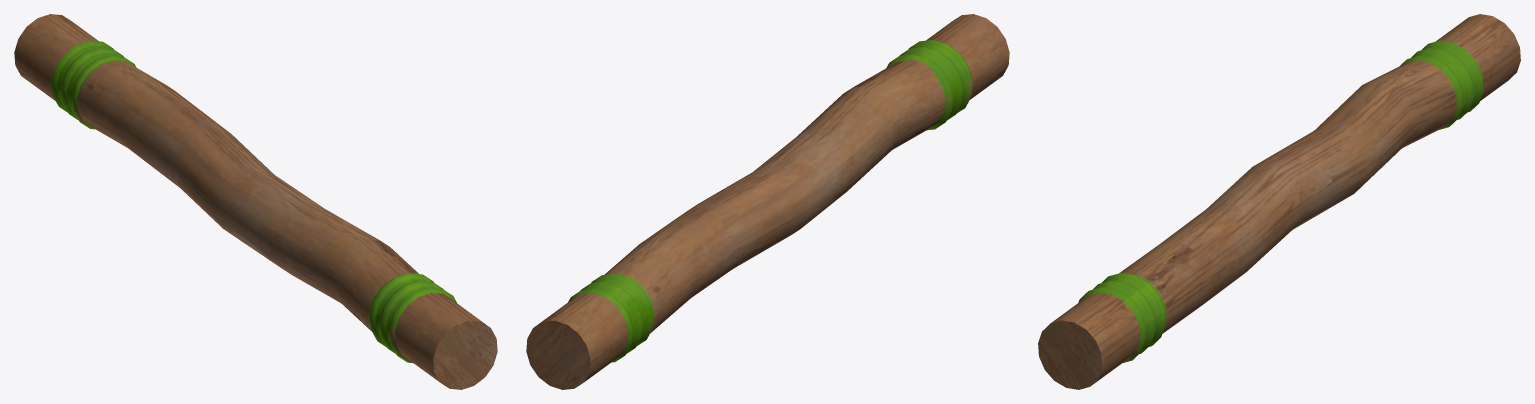
File: Raft1.gltf
The picture shows the model from 3 angles, left to right: view 1: azimuth 30°, elevation 25°; view 2: azimuth 150°, elevation 25°; view 3: azimuth 330°, elevation 25°; orthographic projection.
Visible parts, largest first — view 1: Mesh_0.002; view 2: Mesh_0.002; view 3: Mesh_0.002.
Part boxes in pixels (left/top/right/bottom): Mesh_0.002: left=14, top=14, right=497, bottom=389; Mesh_0.002: left=526, top=14, right=1009, bottom=389; Mesh_0.002: left=1038, top=14, right=1520, bottom=389.
Size of the model in its own units: 1.16 by 1.16 by 11.16.
Materials: 1 (1 with a texture image).
